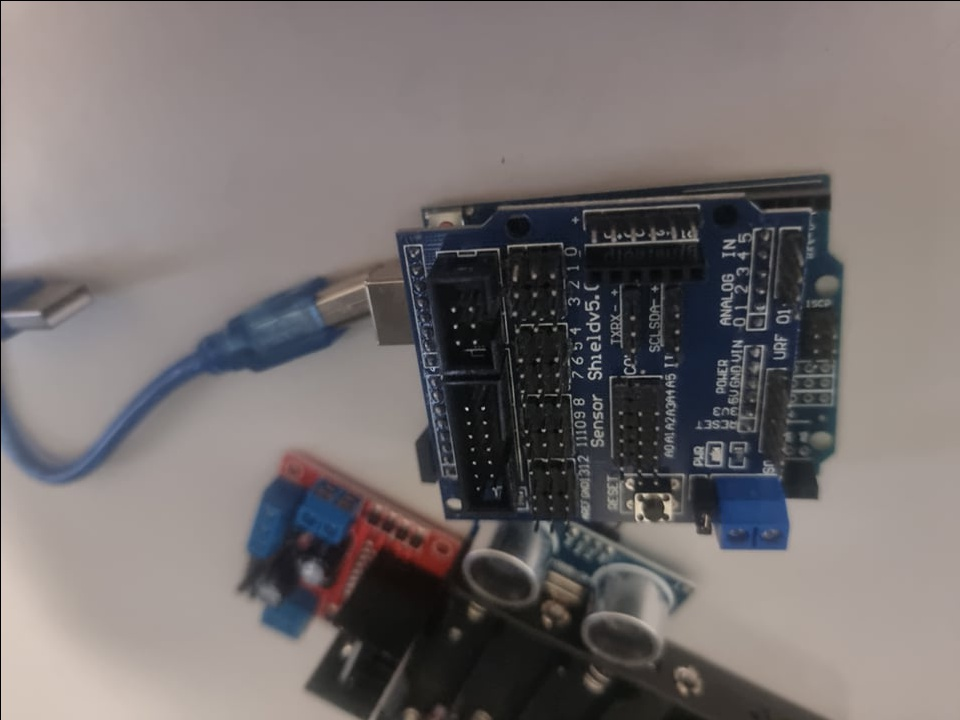5V EXPANSION: (413, 227, 791, 550)
MOTOR: (243, 457, 449, 717)
SENSOR: (471, 512, 683, 661)
